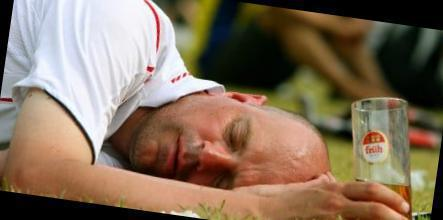Drunk: (141, 103, 321, 200)
